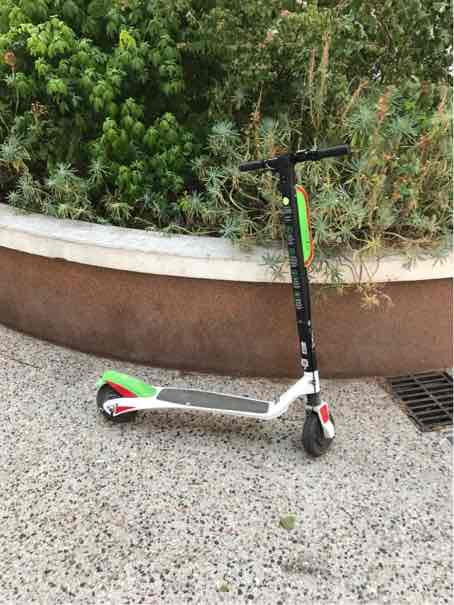scooter: (84, 142, 353, 465)
